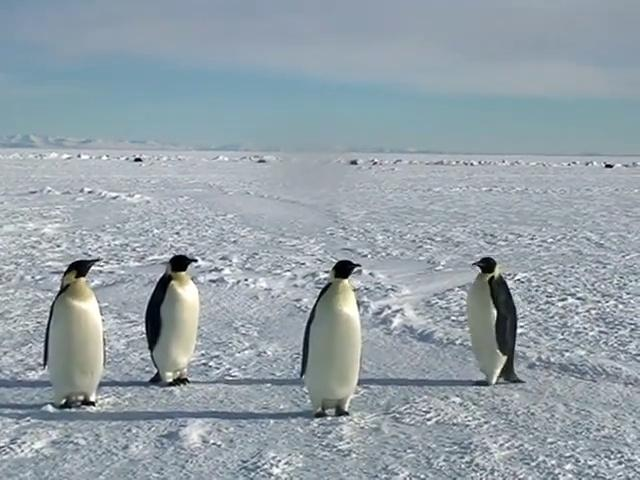animal: (302, 261, 362, 418)
